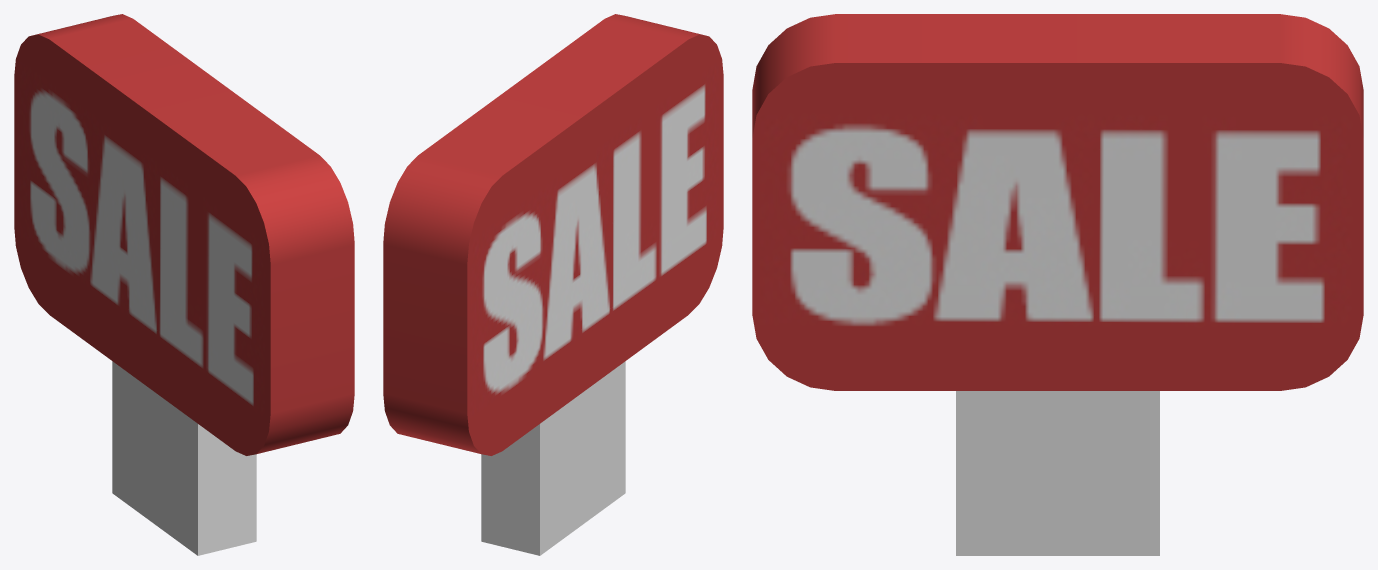
File: Scene_base_sale.FBX
3 renders of one model, left to right at view 1: azimuth 30°, elevation 25°; view 2: azimuth 150°, elevation 25°; view 3: azimuth 270°, elevation 25°, orthographic. The views are drawn at different scales.
Visible parts, largest first — view 1: polySurface2; view 2: polySurface2; view 3: polySurface2.
Part boxes in pixels (<box>): polySurface2: <box>14,14,354,555</box>; polySurface2: <box>383,14,723,555</box>; polySurface2: <box>752,14,1363,555</box>.
Size of the model in its own units: 20.75 by 99.07 by 110.
1 material, 1 textured.
